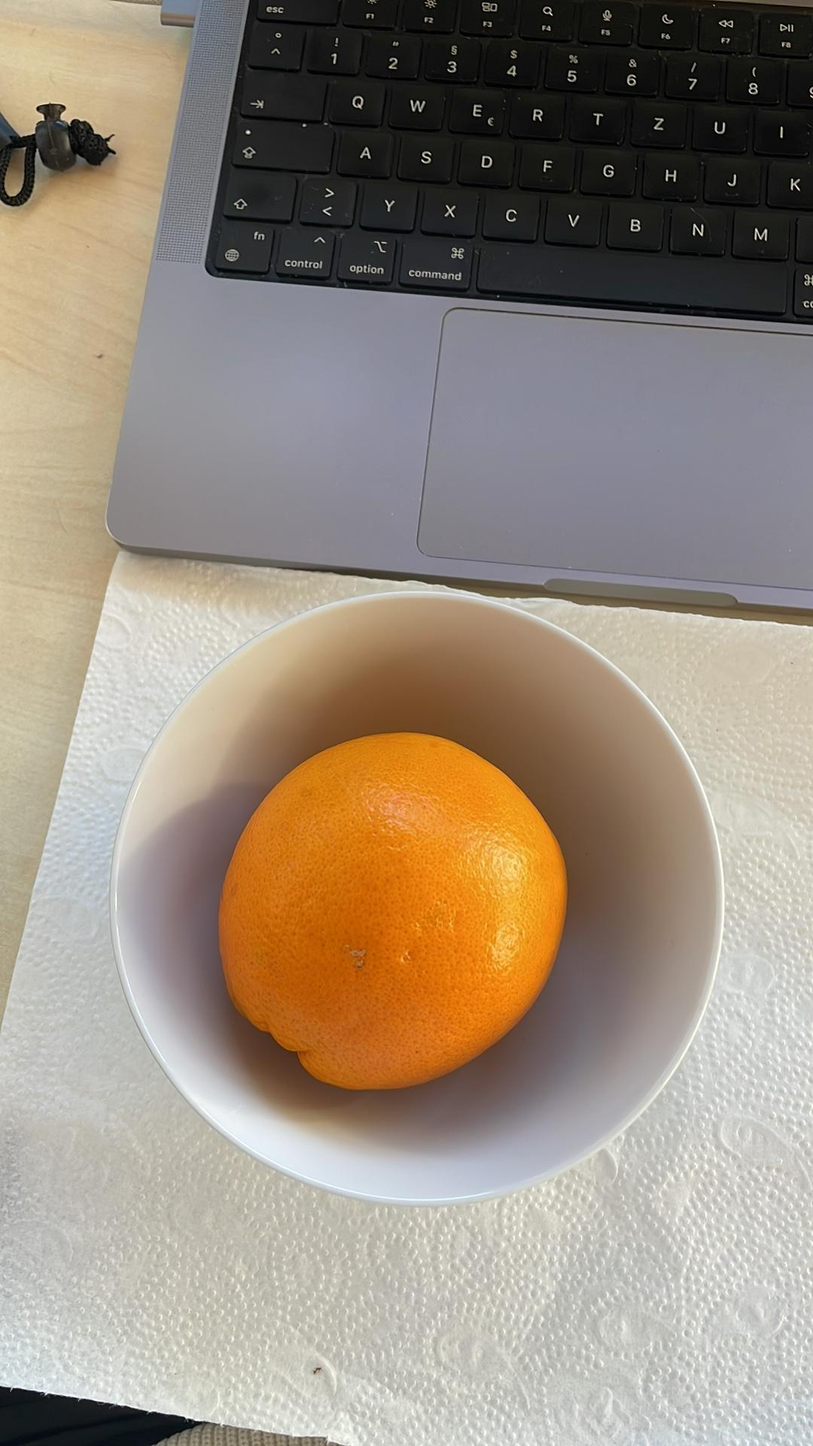orange: (220, 732, 570, 1092)
